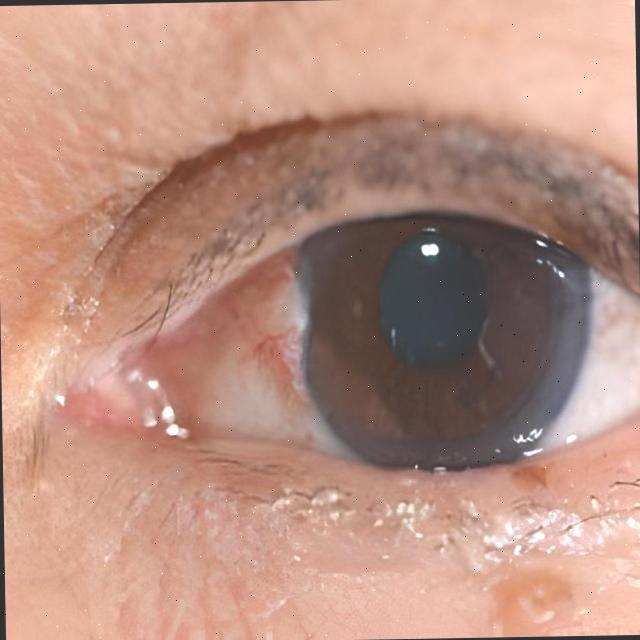Pterygium: (123, 260, 330, 442)
